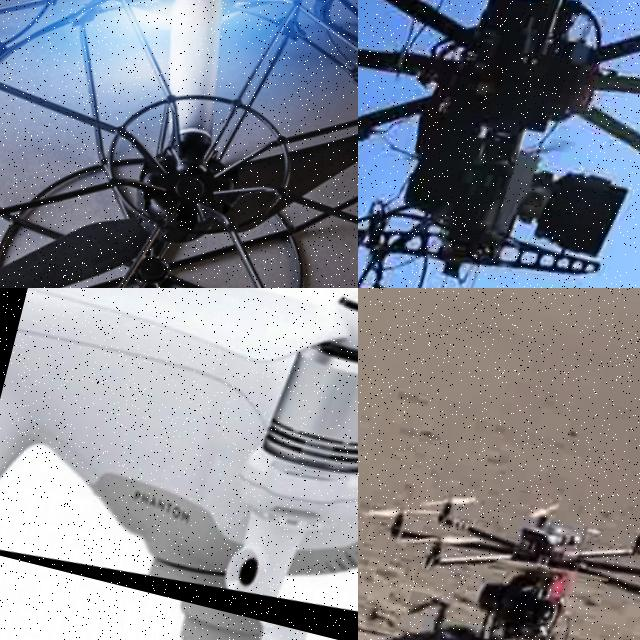0: (358, 0, 640, 288), (358, 456, 640, 640)
drone: (0, 288, 358, 640), (0, 0, 358, 288)
